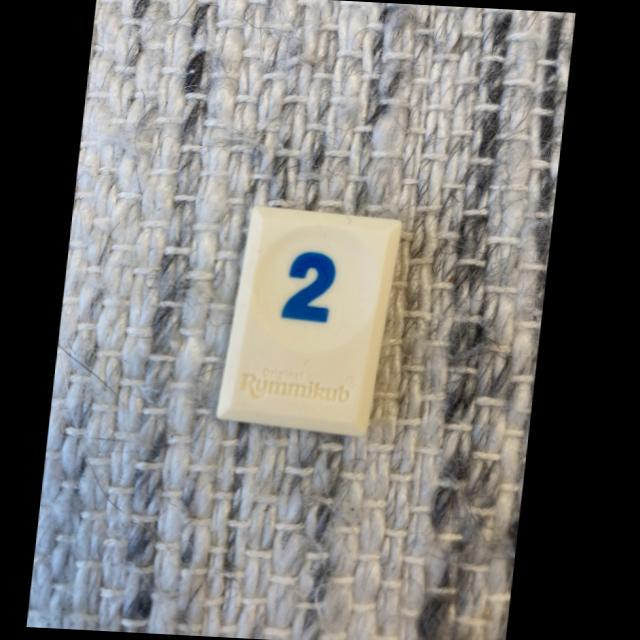blue_2: (222, 208, 403, 436)
